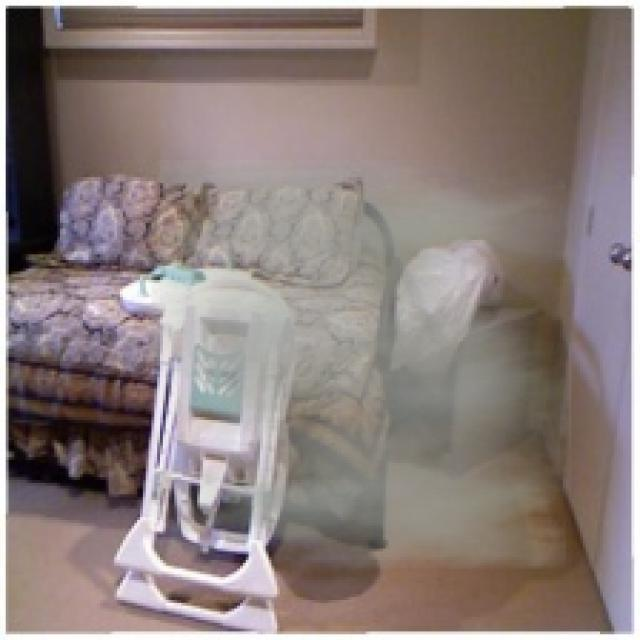Smoke: (152, 160, 572, 569)
